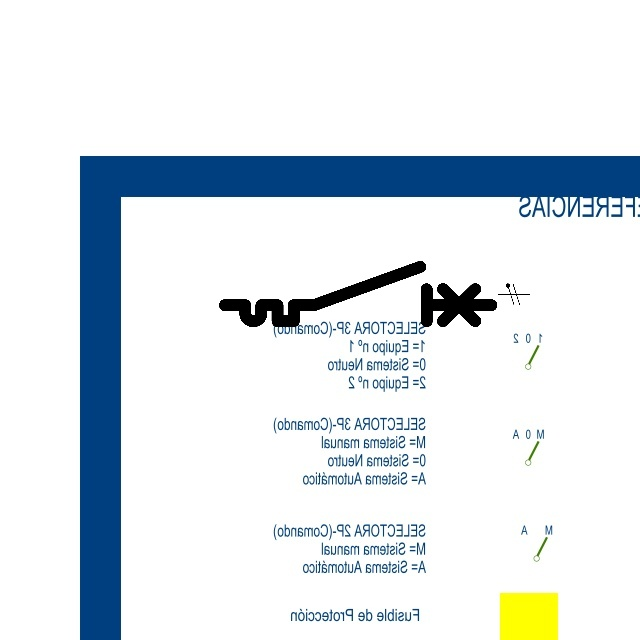interruptor_termomagnetico: (218, 260, 498, 328)
